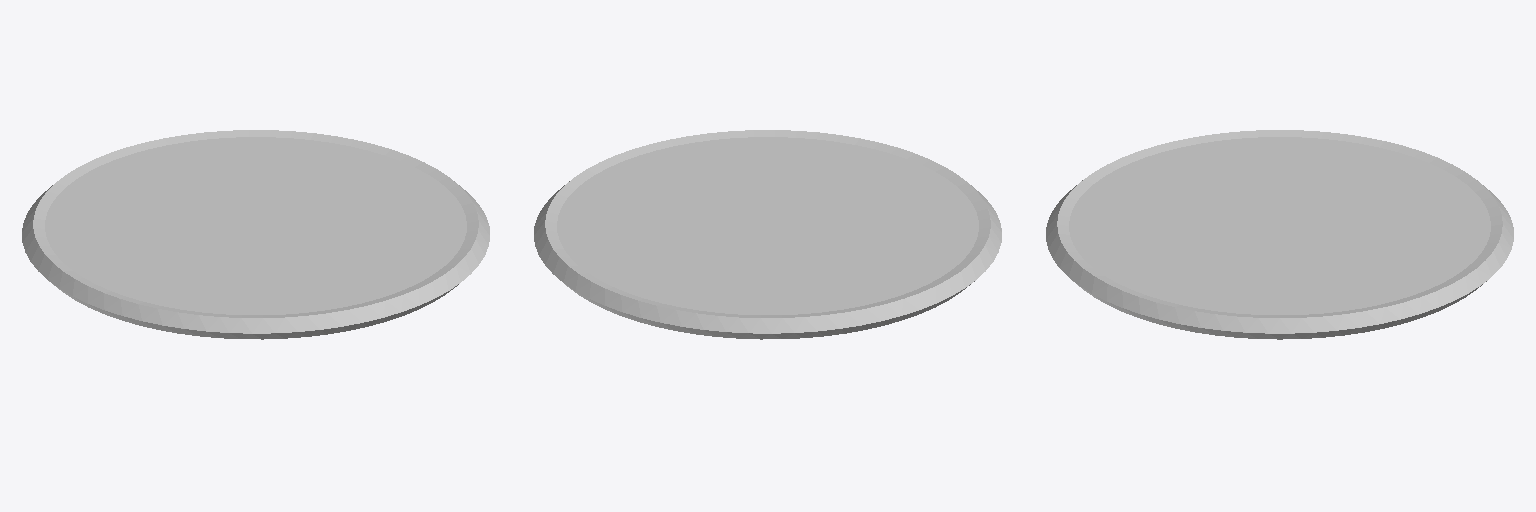
Rendered from RoundButtonModified.obj.
The picture shows the model from 3 angles: view 1: azimuth 30°, elevation 25°; view 2: azimuth 150°, elevation 25°; view 3: azimuth 270°, elevation 25°; orthographic projection.
Visible parts, largest first — view 1: Cylinder; view 2: Cylinder; view 3: Cylinder.
Boxes of the visible parts, <box> form: Cylinder: <box>22,130,489,339</box>; Cylinder: <box>534,130,1001,339</box>; Cylinder: <box>1046,130,1513,339</box>.
Size of the model in its own units: 2 by 0.3 by 2.